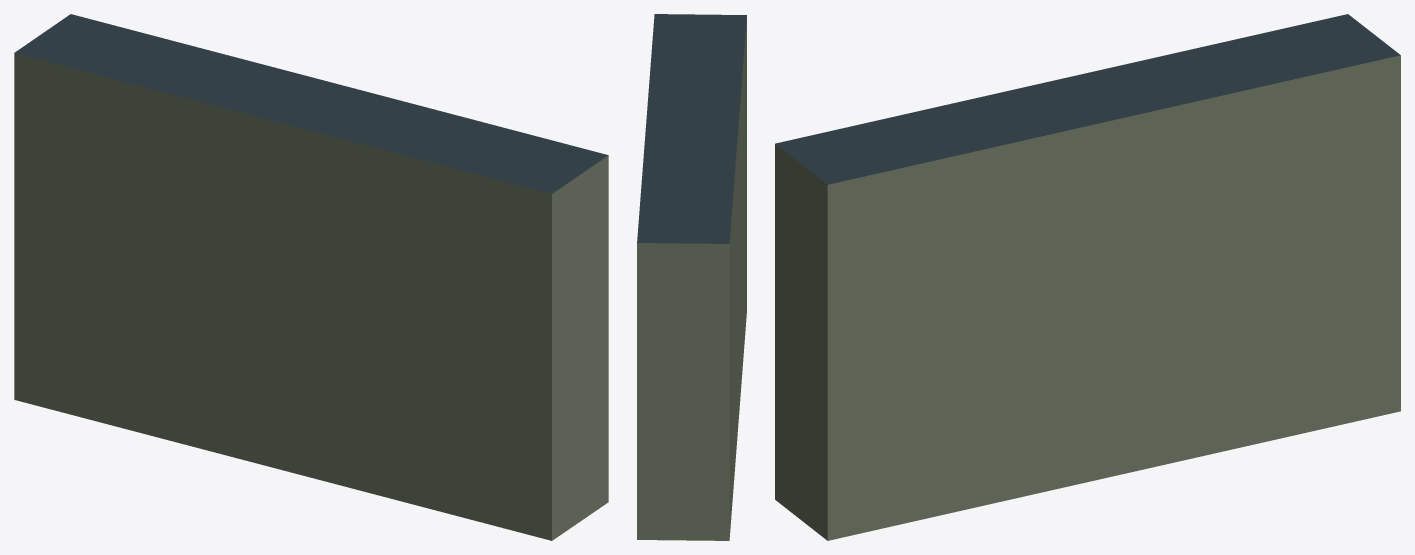
Rendered from nyc-1022658-0.glb.
3 renders of one model, left to right at view 1: azimuth 30°, elevation 25°; view 2: azimuth 150°, elevation 25°; view 3: azimuth 270°, elevation 25°, orthographic. The views are drawn at different scales.
Visible parts, largest first — view 1: nyc-1022658-0; view 2: nyc-1022658-0; view 3: nyc-1022658-0.
Boxes of the visible parts, x1,y1,x2,y2 form: nyc-1022658-0: [14, 14, 608, 540]; nyc-1022658-0: [637, 14, 746, 540]; nyc-1022658-0: [775, 14, 1400, 540].
Bounding box in the file's own units: 15.99 × 15.54 × 24.75.
